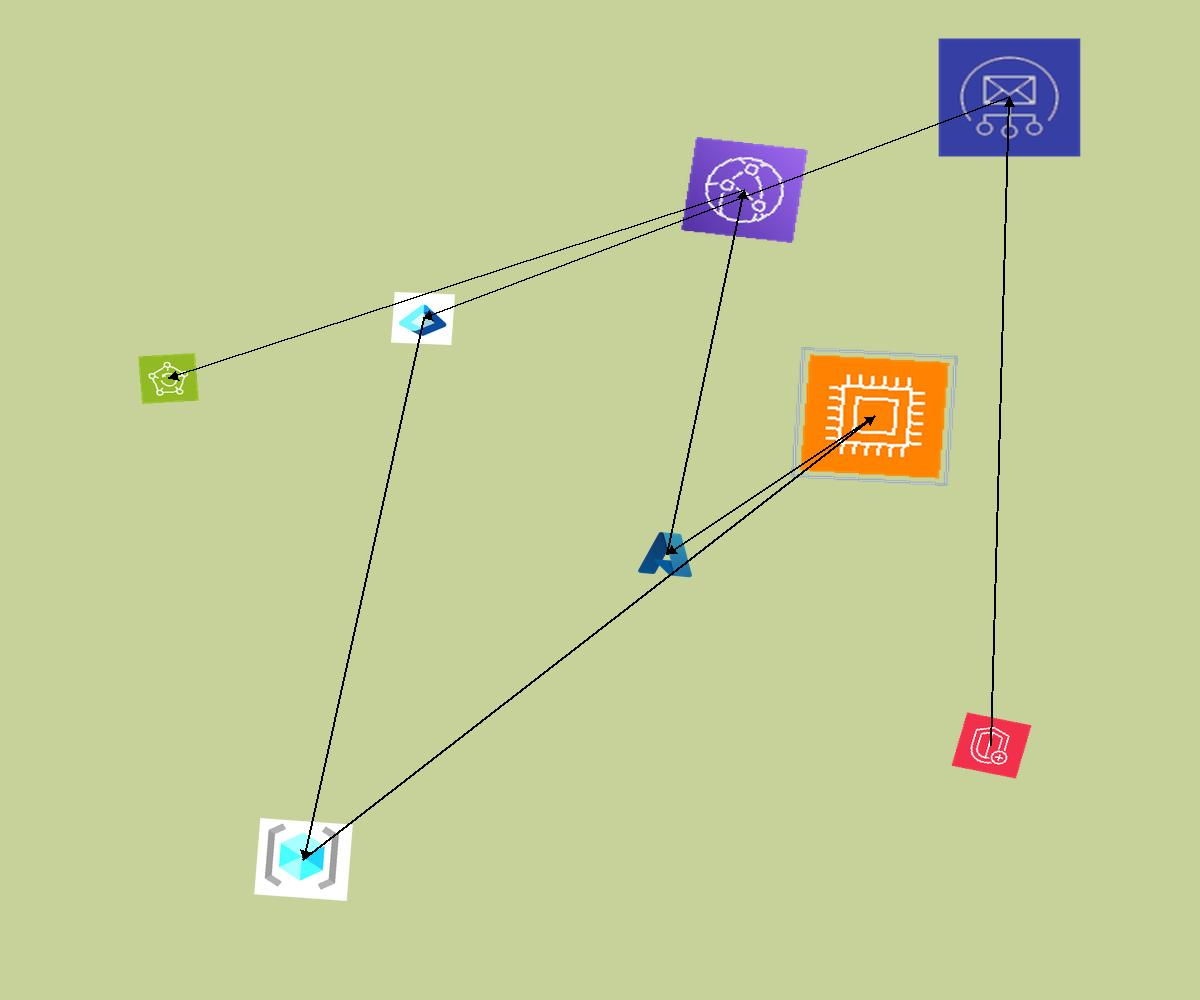AWS-Backup: (138, 353, 199, 404)
AWS-Category_Compute: (791, 347, 958, 486)
AWS-CloudFront: (680, 136, 809, 244)
AWS-Shield: (951, 712, 1032, 779)
AWS-Simple-Email-Service: (937, 37, 1082, 158)
Azure_microsoft_entra: (391, 292, 455, 345)
Azure_resource_group: (254, 818, 353, 901)
Azure_services: (635, 527, 700, 581)
